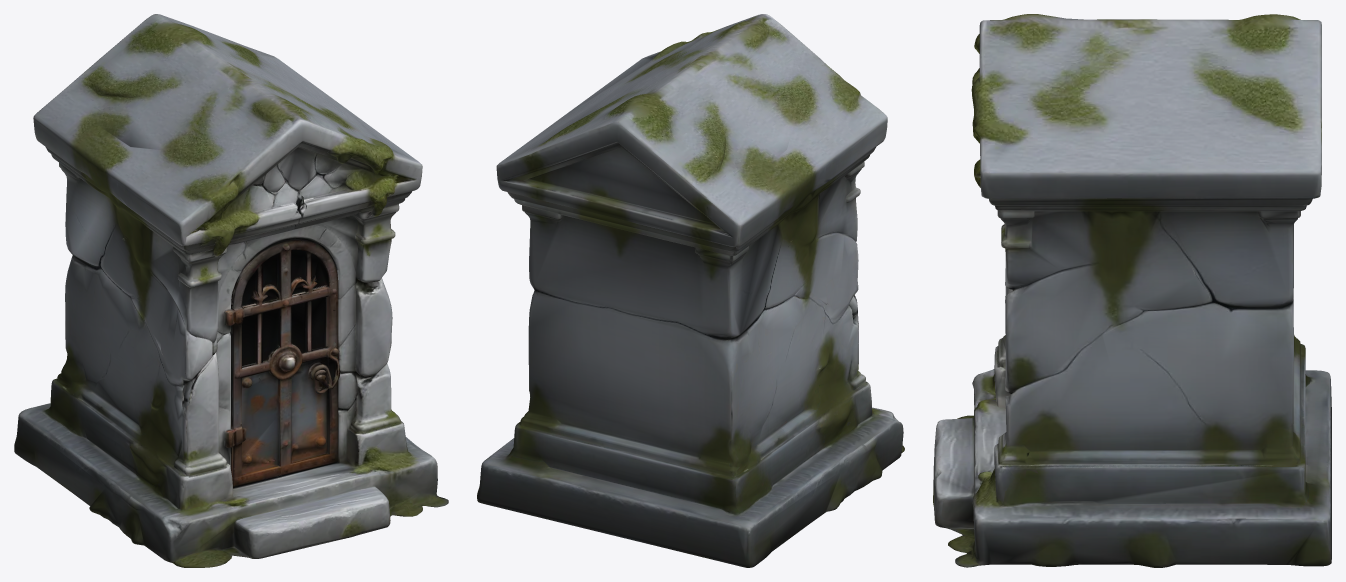
The model's file is Mausoleum2.opt.glb.
The picture shows the model from 3 angles, left to right: view 1: azimuth 30°, elevation 25°; view 2: azimuth 150°, elevation 25°; view 3: azimuth 270°, elevation 25°; orthographic projection. The views are drawn at different scales.
Visible parts, largest first — view 1: node_0; view 2: node_0; view 3: node_0.
Boxes of the visible parts, bbox=[...] form: node_0: bbox=[14, 14, 448, 567]; node_0: bbox=[477, 14, 904, 567]; node_0: bbox=[933, 14, 1331, 567].
Size of the model in its own units: 0.6063 by 0.8391 by 0.6438.
Materials: 1 (1 with a texture image).
